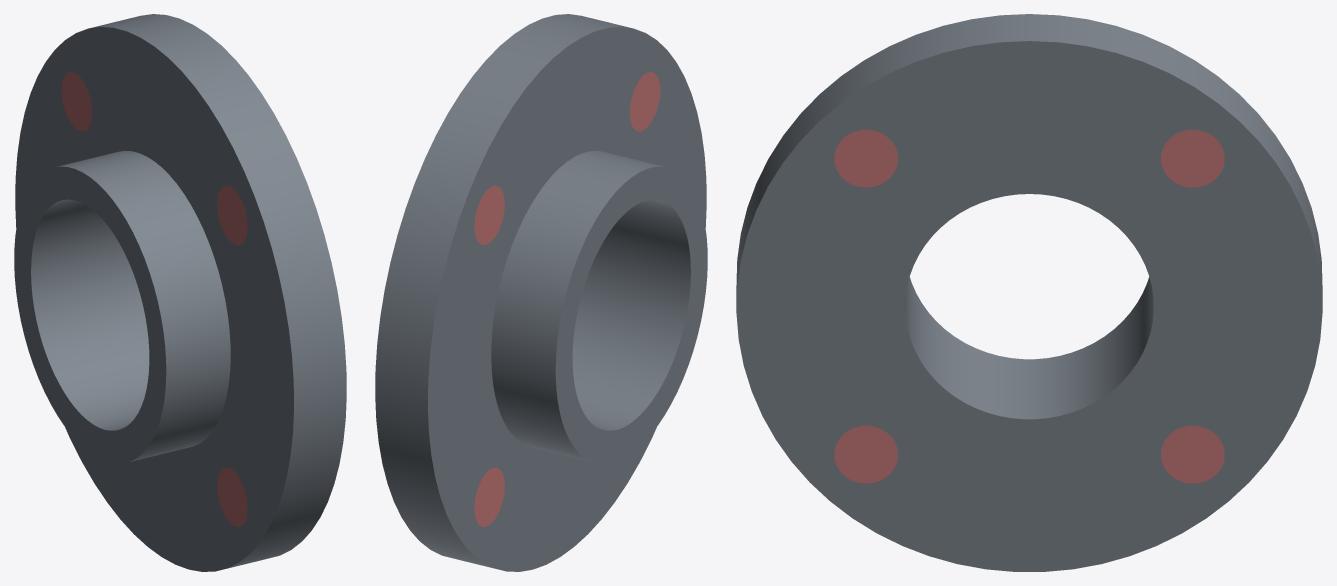
The model's file is step_20.glb.
3 renders of one model, left to right at view 1: azimuth 30°, elevation 25°; view 2: azimuth 150°, elevation 25°; view 3: azimuth 270°, elevation 25°, orthographic. The views are drawn at different scales.
Parts seen in each view (by area): view 1: part__flange top, inlet, removed__flange top, inlet; view 2: part__flange top, inlet, removed__flange top, inlet; view 3: part__flange top, inlet, removed__flange top, inlet.
Boxes of the visible parts, <box> form: part__flange top, inlet: <box>14,14,346,571</box>; removed__flange top, inlet: <box>61,72,247,526</box>; part__flange top, inlet: <box>375,14,707,571</box>; removed__flange top, inlet: <box>474,72,660,526</box>; part__flange top, inlet: <box>736,14,1322,571</box>; removed__flange top, inlet: <box>834,129,1224,483</box>.
Size of the model in its own units: 40 by 165 by 165.
